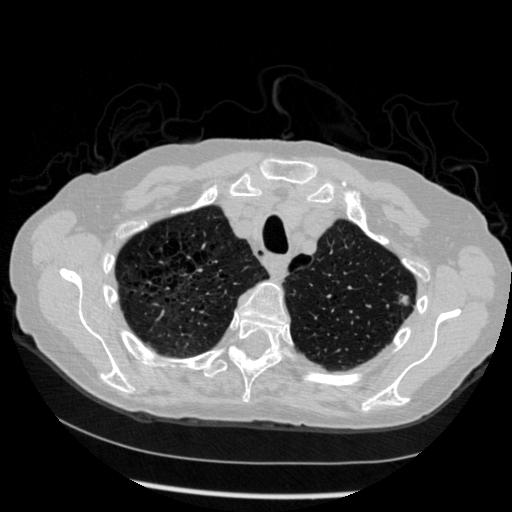nodule: (397, 293, 411, 307)
